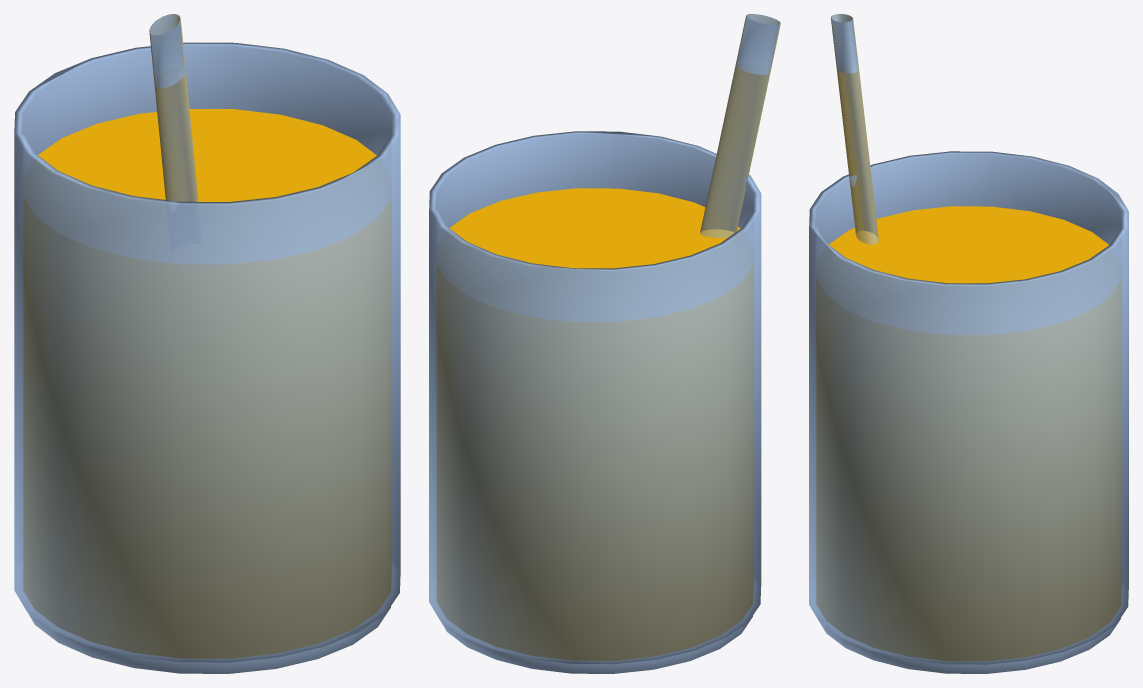
3 views of the same model, side by side, from view 1: azimuth 30°, elevation 25°; view 2: azimuth 150°, elevation 25°; view 3: azimuth 270°, elevation 25° (orthographic). The views are drawn at different scales.
Visible parts, largest first — view 1: mesh1_mesh1-geometry, mesh1_mesh1-geometry_2, mesh2_mesh2-geometry_1, mesh2_mesh2-geometry; view 2: mesh1_mesh1-geometry, mesh1_mesh1-geometry_2, mesh2_mesh2-geometry_1, mesh2_mesh2-geometry; view 3: mesh1_mesh1-geometry, mesh1_mesh1-geometry_2, mesh2_mesh2-geometry_1, mesh2_mesh2-geometry.
Boxes of the visible parts, <box> form: mesh1_mesh1-geometry: <box>14,42,400,673</box>; mesh1_mesh1-geometry_2: <box>23,109,391,658</box>; mesh2_mesh2-geometry_1: <box>149,14,198,201</box>; mesh2_mesh2-geometry: <box>149,14,198,201</box>; mesh1_mesh1-geometry: <box>429,131,761,673</box>; mesh1_mesh1-geometry_2: <box>437,188,753,660</box>; mesh2_mesh2-geometry_1: <box>700,14,780,238</box>; mesh2_mesh2-geometry: <box>700,14,780,232</box>; mesh1_mesh1-geometry: <box>809,151,1128,673</box>; mesh1_mesh1-geometry_2: <box>816,206,1121,660</box>; mesh2_mesh2-geometry_1: <box>831,14,878,244</box>; mesh2_mesh2-geometry: <box>831,14,878,238</box>.
Size of the model in its own units: 0.4244 by 0.7998 by 0.4244.
